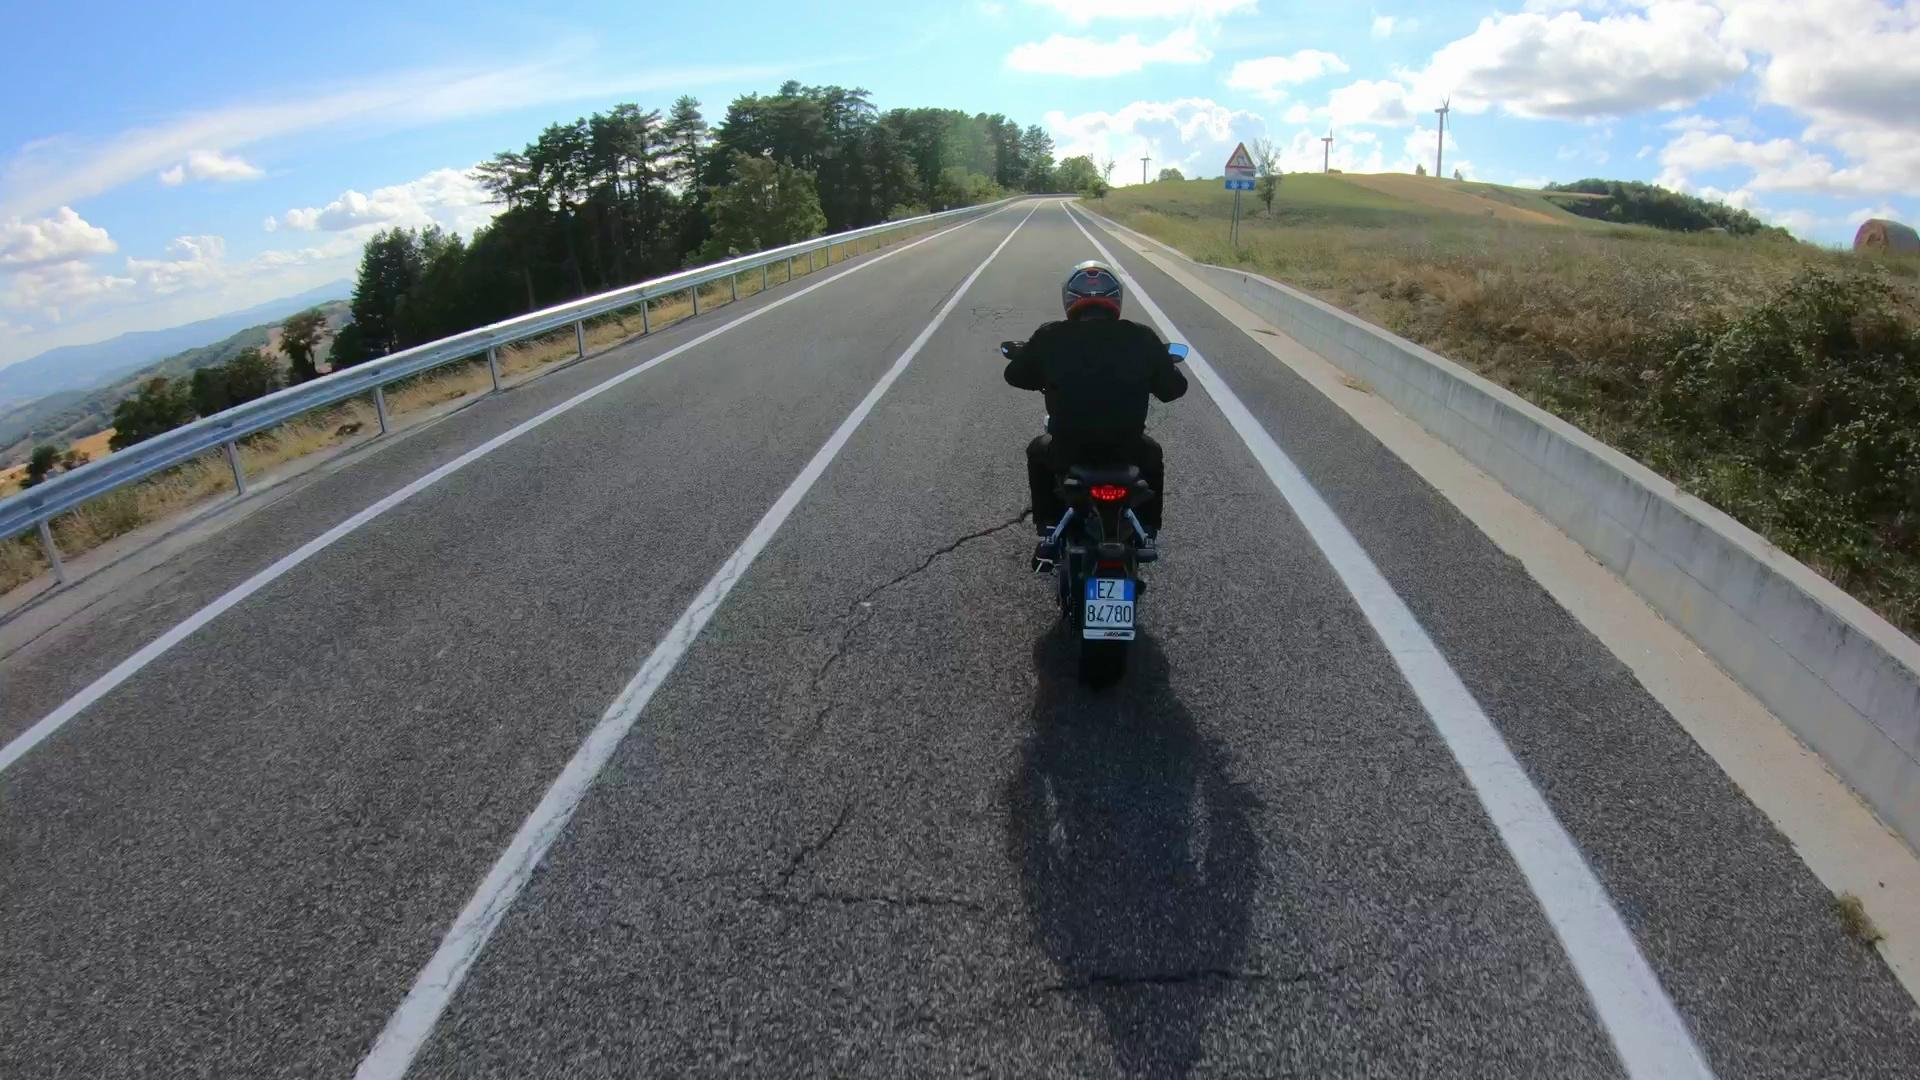cow: (1000, 336, 1191, 690)
horse: (1000, 258, 1192, 562)
